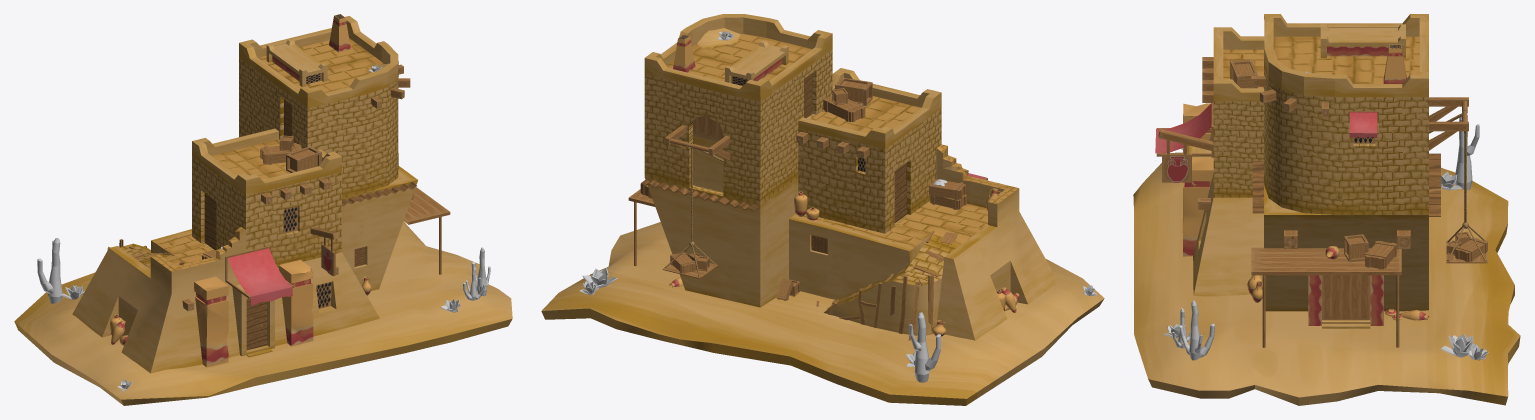
The model's file is Kestens_Matthias_GameArtExam.fbx.
3 views of the same model, side by side, from view 1: azimuth 30°, elevation 25°; view 2: azimuth 150°, elevation 25°; view 3: azimuth 270°, elevation 25° (orthographic). The views are drawn at different scales.
Parts seen in each view (by area): view 1: Ground1, MainFloor (×2), SecondFloor, FirtFloor, Pillar (×2), SunCover, MainDoor, AirRoof, Plane003, Crate_025, Sign, Line003 (+4 smaller); view 2: MainFloor (×2), Ground1, SecondFloor, FirtFloor, WoodenPlanks, AirRoof, Lift, Plane001, Crate_025, Line003, Crate_020, Chimney (+2 smaller); view 3: Ground1, SecondFloor, MainFloor (×2), FirtFloor, StorageEntrance, Plane003, AirRoof, Pillar (×2), Lift, SunCover (×2), Sign, Line007 (+9 smaller).
Boxes of the visible parts, bbox=[...] form: Ground1: bbox=[14, 221, 512, 405]; MainFloor (×2): bbox=[72, 166, 417, 373]; SecondFloor: bbox=[239, 16, 398, 198]; FirtFloor: bbox=[192, 128, 341, 267]; Pillar (×2): bbox=[194, 260, 313, 367]; SunCover: bbox=[225, 245, 294, 305]; MainDoor: bbox=[232, 284, 274, 357]; AirRoof: bbox=[266, 39, 327, 86]; Plane003: bbox=[403, 187, 450, 274]; Crate_025: bbox=[286, 146, 321, 172]; Sign: bbox=[311, 227, 338, 276]; Line003: bbox=[47, 238, 62, 303]; MainFloor (×2): bbox=[644, 144, 1058, 340]; Ground1: bbox=[541, 222, 1104, 405]; SecondFloor: bbox=[644, 14, 832, 205]; FirtFloor: bbox=[798, 68, 941, 233]; WoodenPlanks: bbox=[816, 231, 974, 340]; AirRoof: bbox=[725, 40, 788, 85]; Lift: bbox=[662, 125, 730, 278]; Plane001: bbox=[641, 179, 758, 211]; Crate_025: bbox=[835, 77, 872, 106]; Line003: bbox=[914, 312, 929, 382]; Crate_020: bbox=[823, 96, 865, 122]; Chimney: bbox=[673, 34, 695, 72]; Ground1: bbox=[1133, 152, 1520, 405]; SecondFloor: bbox=[1264, 14, 1428, 214]; MainFloor (×2): bbox=[1193, 131, 1428, 311]; FirtFloor: bbox=[1213, 27, 1264, 197]; StorageEntrance: bbox=[1308, 275, 1383, 328]; Plane003: bbox=[1251, 247, 1401, 347]; AirRoof: bbox=[1320, 24, 1405, 58]; Pillar (×2): bbox=[1183, 103, 1213, 256]; Lift: bbox=[1429, 97, 1487, 263]; SunCover (×2): bbox=[1155, 103, 1378, 156]; Sign: bbox=[1158, 129, 1213, 182]; Line007: bbox=[1179, 300, 1214, 360].
Size of the model in its own units: 571 by 341 by 383.
